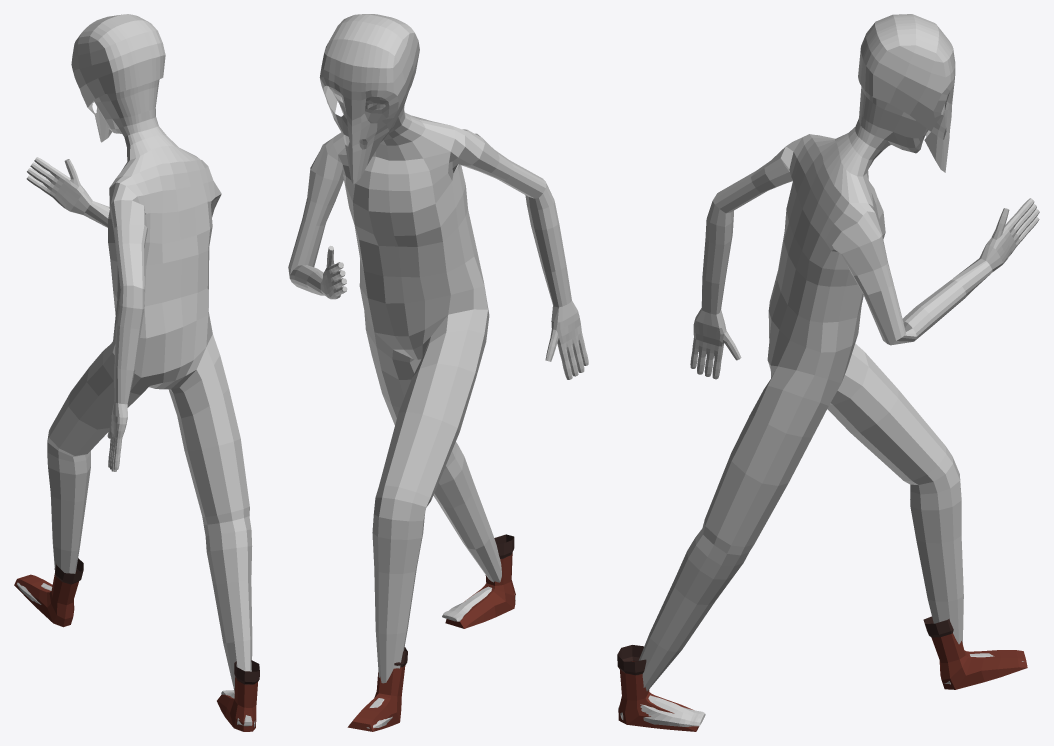
The model's file is marcha5_000038.obj.
3 renders of one model, left to right at view 1: azimuth 30°, elevation 25°; view 2: azimuth 150°, elevation 25°; view 3: azimuth 270°, elevation 25°, orthographic. The views are drawn at different scales.
Parts seen in each view (by area): view 1: Plane.002_Plane.001, Plane.004, Plane.003; view 2: Plane.002_Plane.001, Plane.003, Plane.004; view 3: Plane.002_Plane.001, Plane.004, Plane.003.
Boxes of the visible parts, left/top/right/bottom form: Plane.002_Plane.001: left=16, top=14, right=255, bottom=727; Plane.004: left=14, top=558, right=83, bottom=627; Plane.003: left=217, top=660, right=259, bottom=731; Plane.002_Plane.001: left=288, top=14, right=588, bottom=728; Plane.003: left=445, top=534, right=515, bottom=628; Plane.004: left=347, top=647, right=407, bottom=731; Plane.002_Plane.001: left=618, top=14, right=1039, bottom=726; Plane.004: left=923, top=616, right=1027, bottom=689; Plane.003: left=617, top=645, right=699, bottom=731.
Size of the model in its own units: 2 by 6.64 by 3.64.
